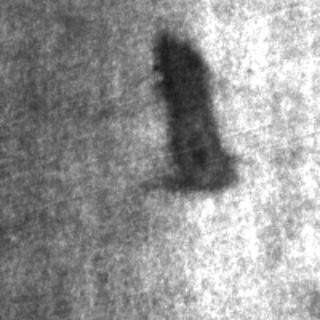patches: (142, 28, 238, 190)
